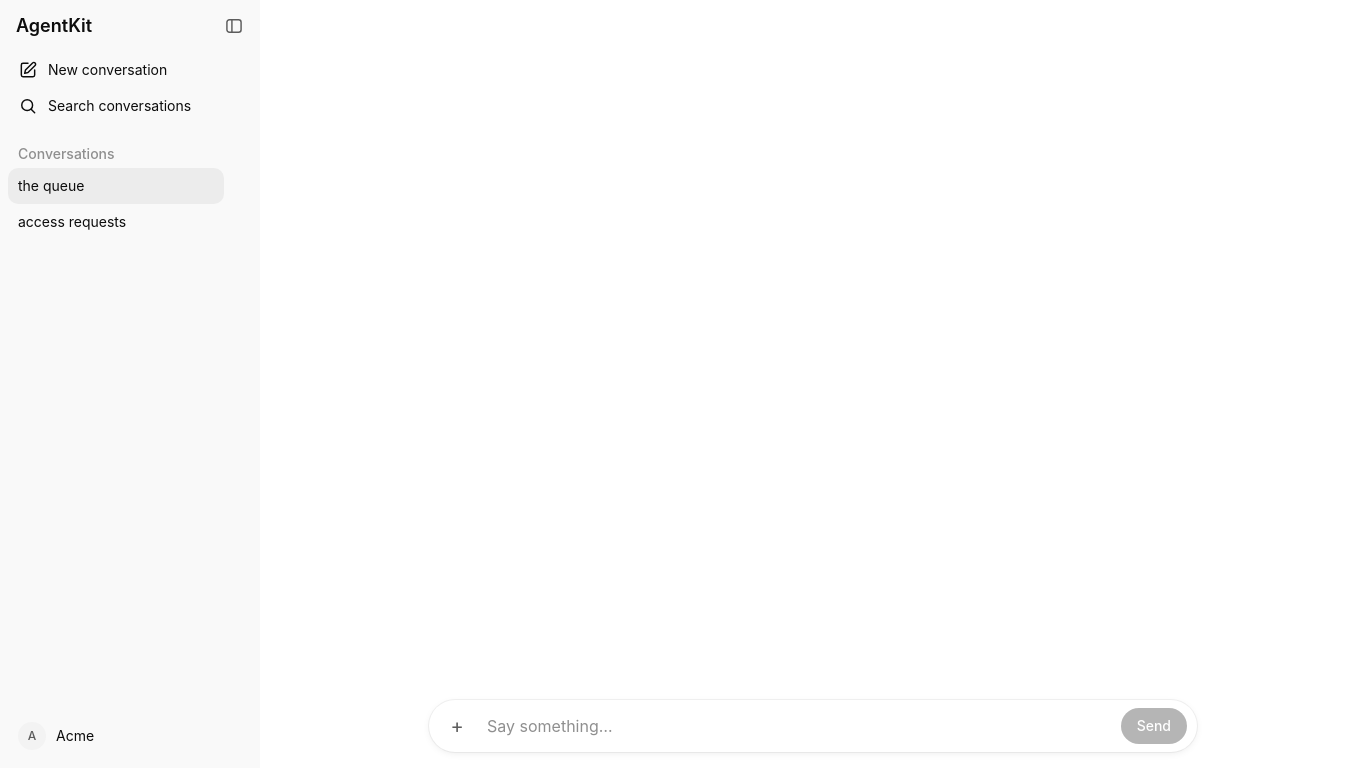
Test: threads end to end › searches the list
Expected: the text "the queue" is shown, [18,176,84,196]
Type "access" into the search field labelled "Search conversations". click: (145, 106)
box: [48,96,242,116]
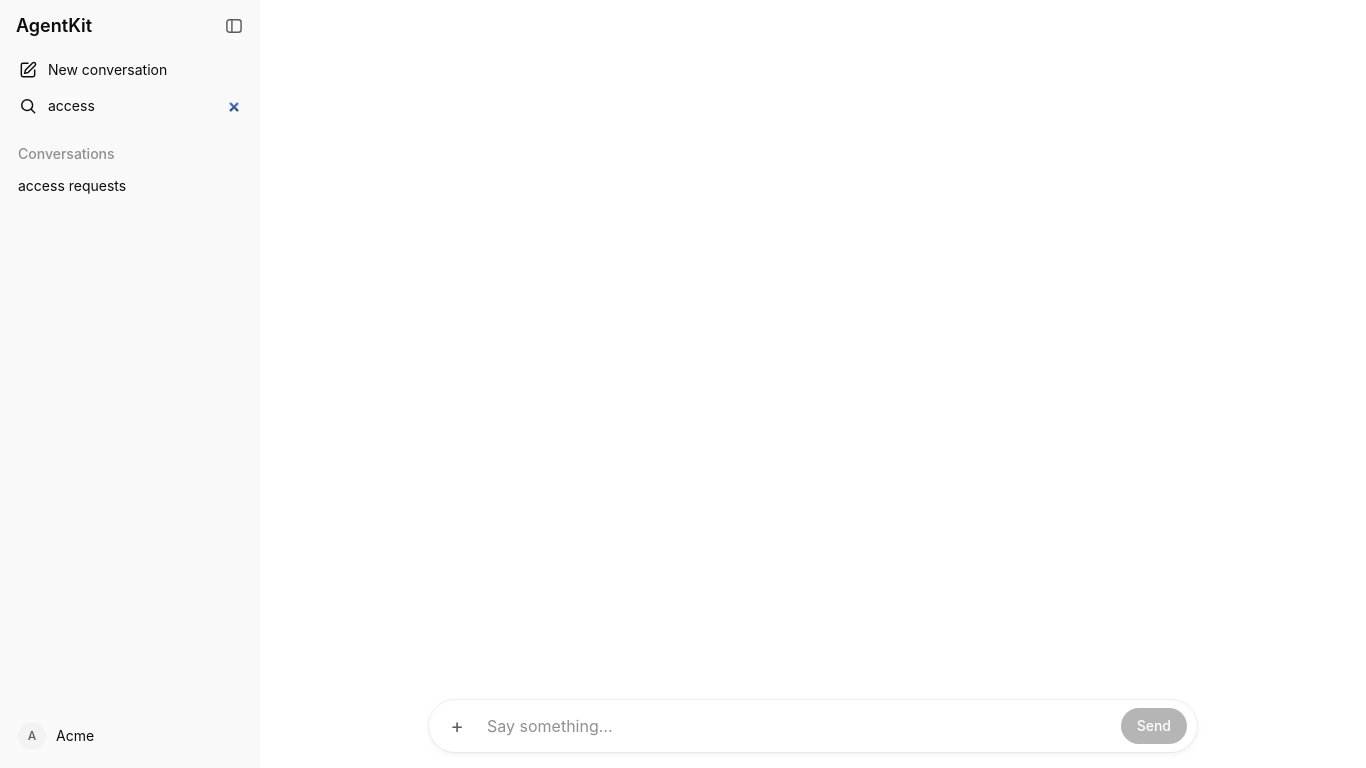
Expected: the button "access requests" is shown, [8,168,224,204]
Expected: the button "the queue" is gone
